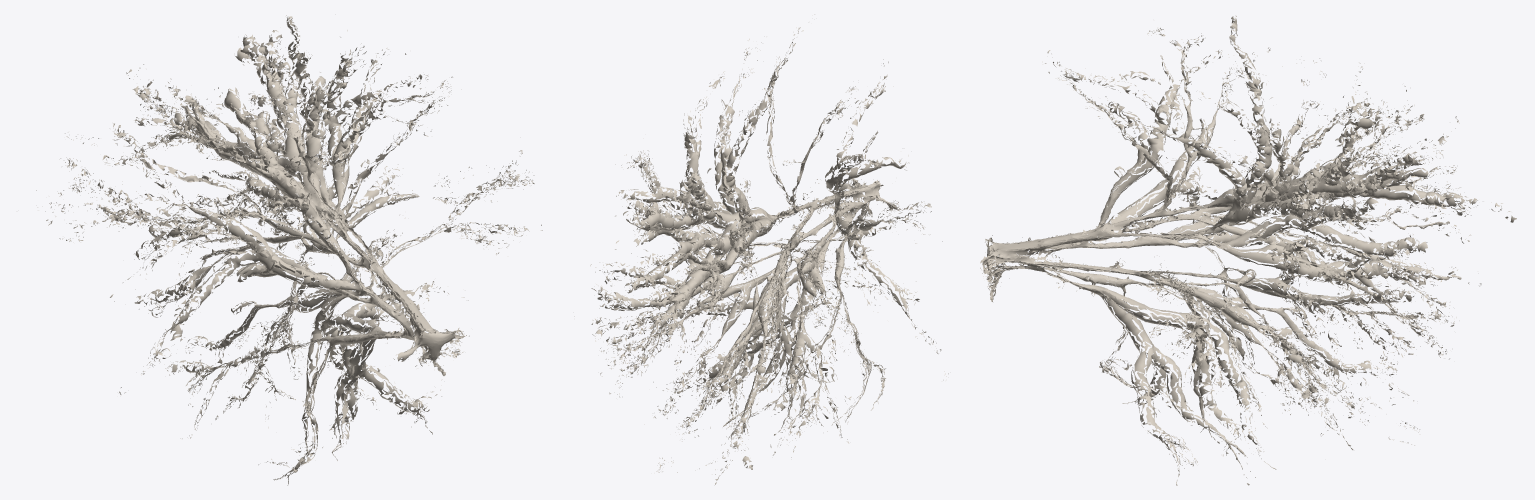
File: tree_1_cand05.glb
The picture shows the model from 3 angles, left to right: view 1: azimuth 30°, elevation 25°; view 2: azimuth 150°, elevation 25°; view 3: azimuth 270°, elevation 25°; orthographic projection. The views are drawn at different scales.
Visible parts, largest first — view 1: world; view 2: world; view 3: world.
Boxes of the visible parts, x1=… form: world: x1=36, y1=15, x2=542, y2=485; world: x1=574, y1=14, x2=948, y2=484; world: x1=980, y1=15, x2=1516, y2=485.
Bounding box in the file's own units: 1.85 × 1.89 × 2.09.
